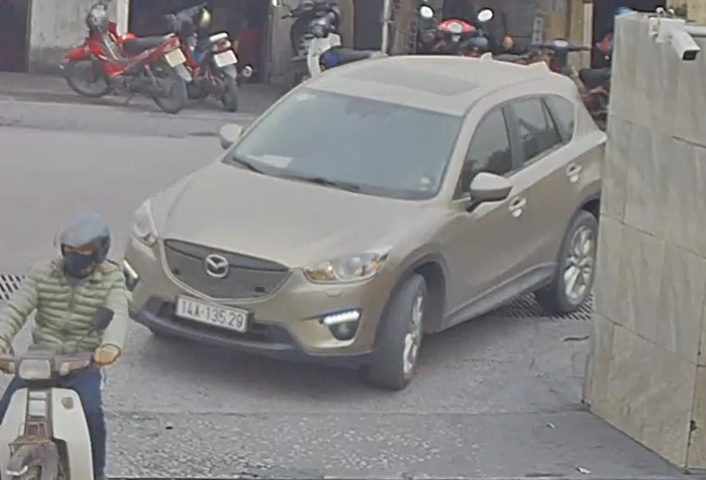vehicle plate: (174, 292, 253, 333)
